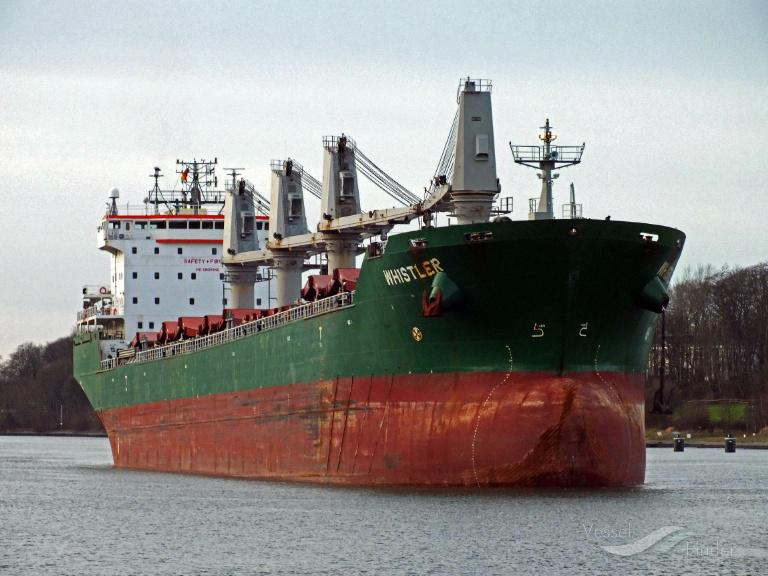OCR: (373, 254, 448, 291)
